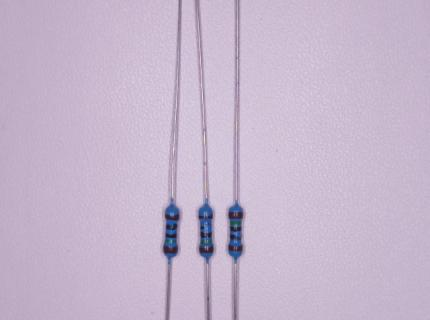Black band: (165, 224, 178, 230), (230, 234, 242, 240), (200, 232, 212, 238), (165, 233, 177, 238), (230, 227, 242, 231), (200, 225, 212, 229)
Brown band: (228, 212, 243, 219), (163, 246, 177, 253), (199, 247, 214, 253), (165, 214, 180, 220), (229, 245, 243, 251), (198, 215, 213, 219)
Green band: (200, 240, 213, 244), (165, 239, 176, 243), (230, 221, 241, 225)
